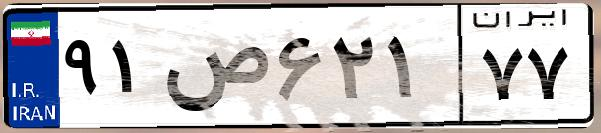1: (385, 28, 445, 110), (110, 28, 158, 98)
2: (330, 28, 385, 110)
6: (270, 28, 330, 110)
7: (475, 38, 525, 113), (525, 38, 570, 115)
9: (57, 26, 110, 100)
ص: (158, 20, 270, 120)
